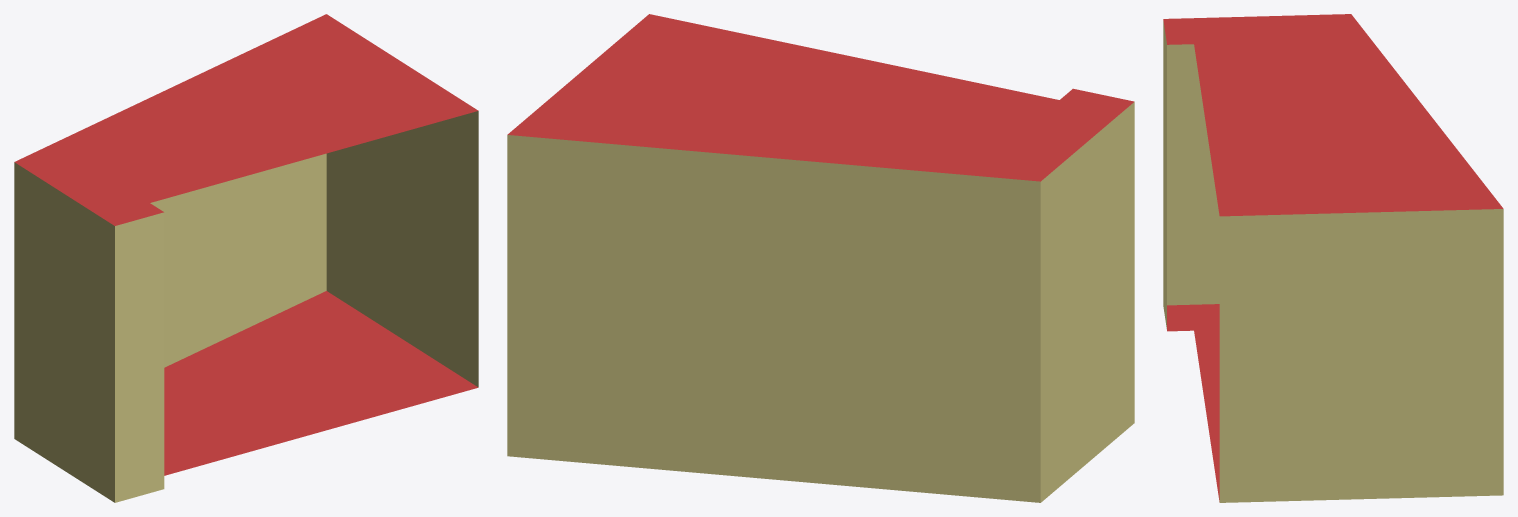
3 views of the same model, side by side, from view 1: azimuth 30°, elevation 25°; view 2: azimuth 150°, elevation 25°; view 3: azimuth 270°, elevation 25° (orthographic). The views are drawn at different scales.
Bounding box in the file's own units: 9.38 × 6.67 × 6.19.
